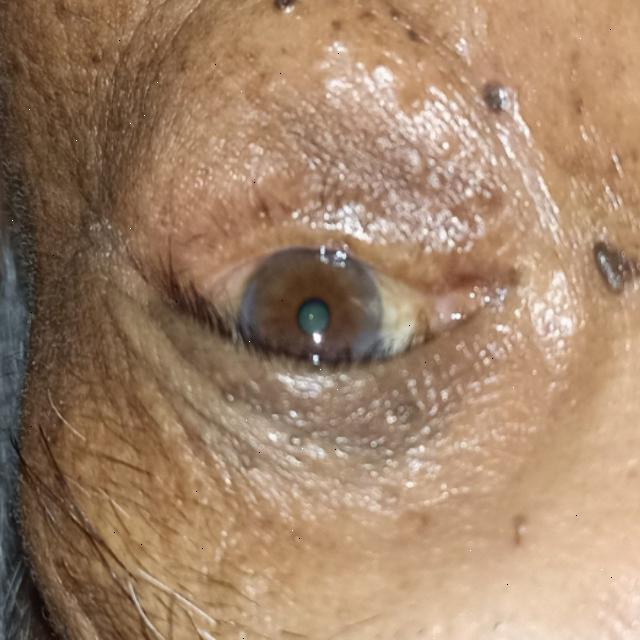Cataract: (242, 241, 384, 402)
